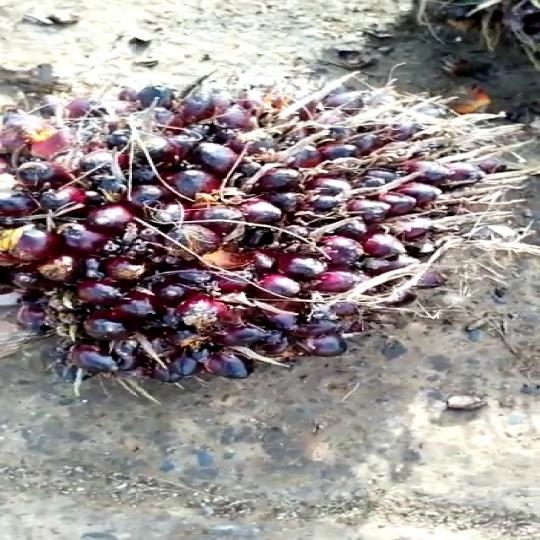kurang masak: (0, 55, 540, 418)
